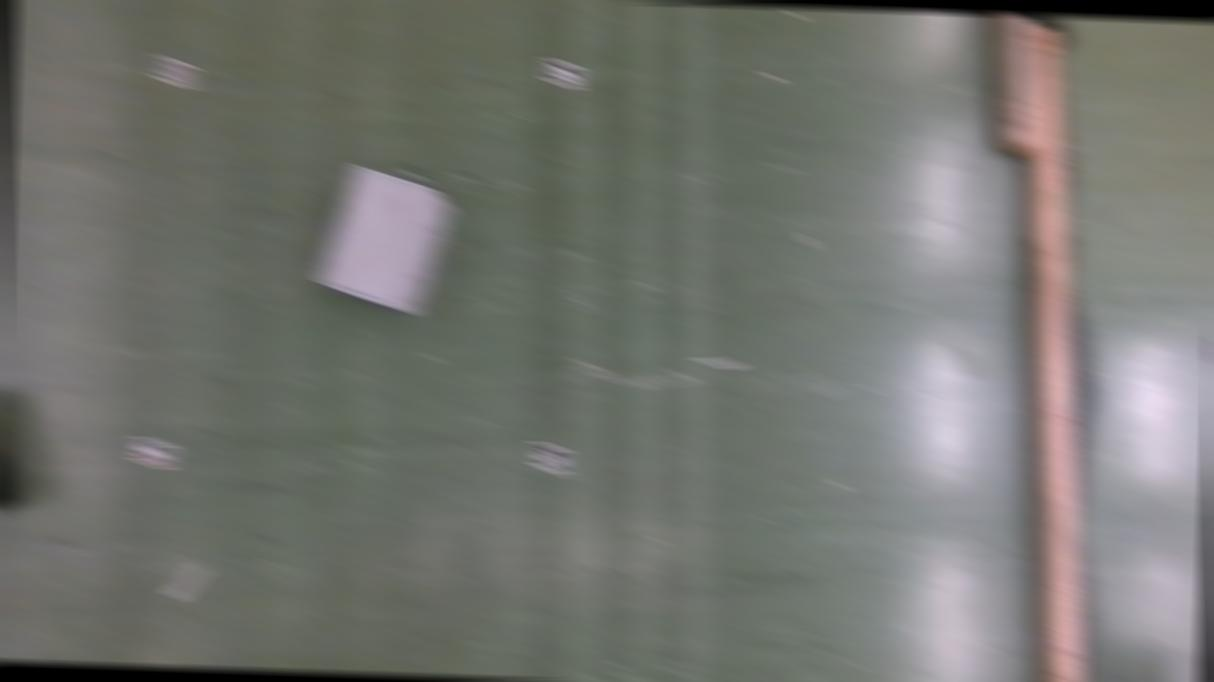rako: (310, 164, 455, 316)
